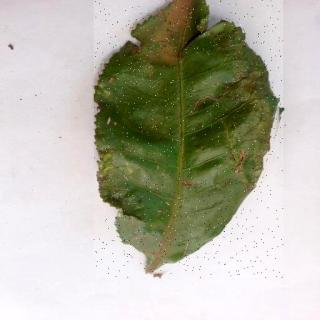Algal Leaf: (95, 1, 284, 279)
